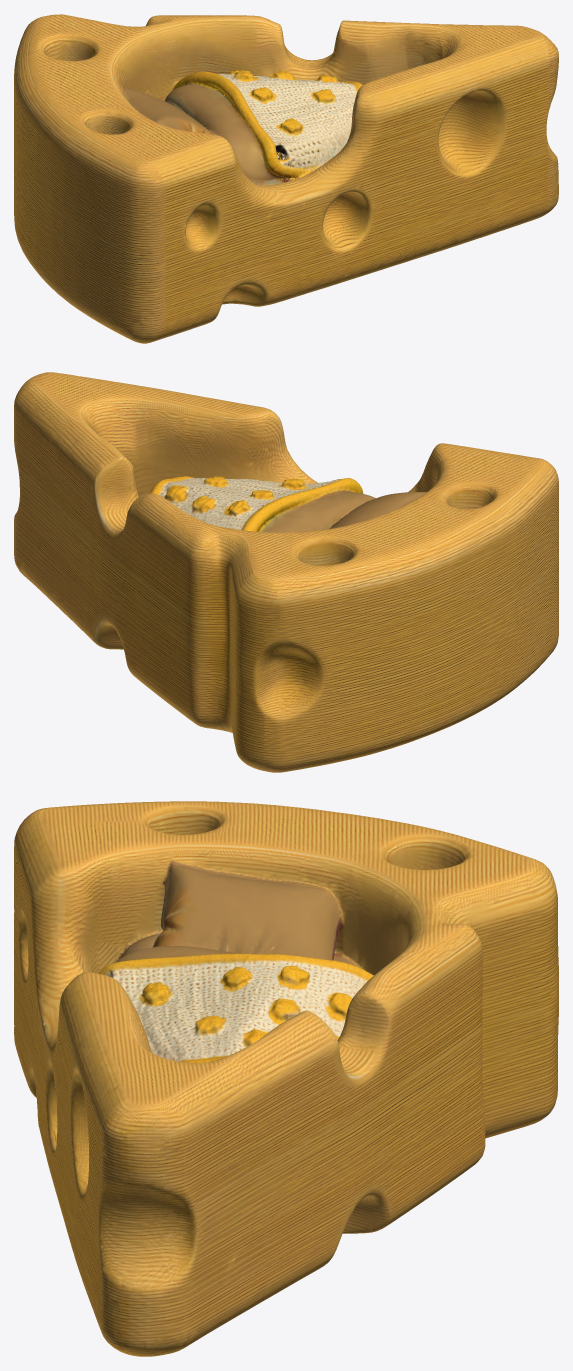
Rendered from raw.glb.
The picture shows the model from 3 angles, top to bottom: view 1: azimuth 30°, elevation 25°; view 2: azimuth 150°, elevation 25°; view 3: azimuth 270°, elevation 25°; orthographic projection. The views are drawn at different scales.
Visible parts, largest first — view 1: Mesh_0; view 2: Mesh_0; view 3: Mesh_0.
Boxes of the visible parts, <box> form: Mesh_0: <box>14,14,558,343</box>; Mesh_0: <box>14,372,558,772</box>; Mesh_0: <box>14,801,558,1356</box>.
Size of the model in its own units: 1.91 by 0.696 by 1.35.
Materials: 1 (1 with a texture image).
